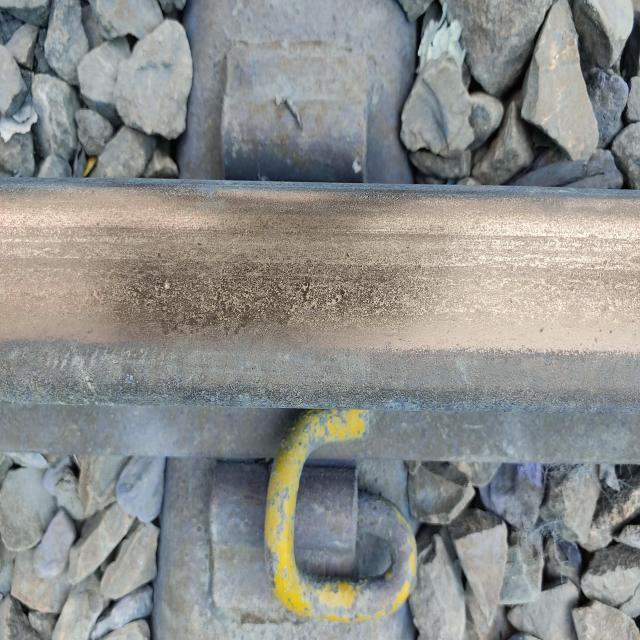Good Fasteners: (171, 373, 450, 640)
Missing Fastener: (160, 14, 415, 192)
